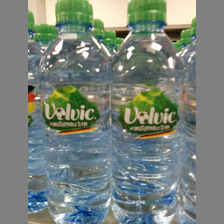water: (110, 1, 186, 224), (36, 1, 111, 224)
